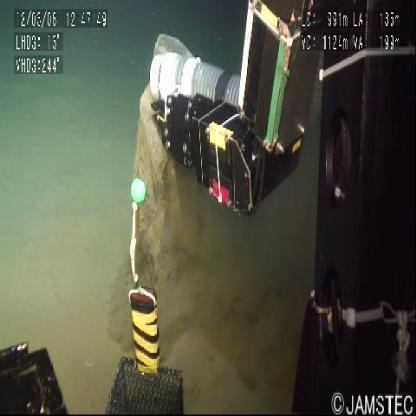Rác: (132, 88, 183, 276)
